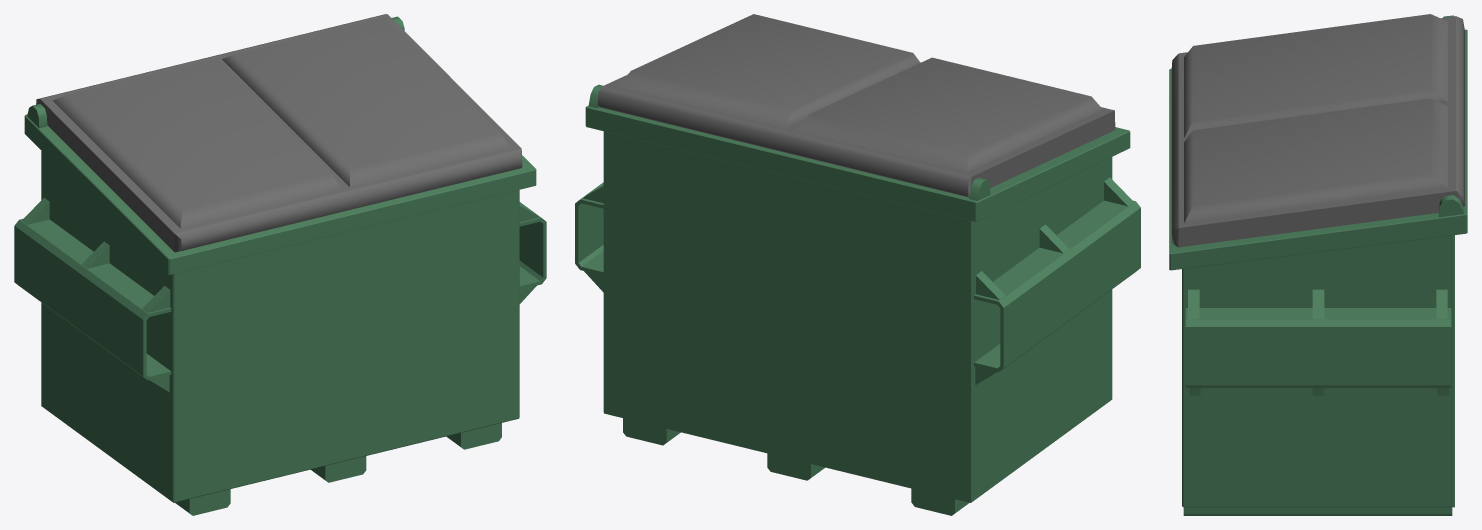
The model's file is Dumpster_Green_01.fbx.
3 renders of one model, left to right at view 1: azimuth 30°, elevation 25°; view 2: azimuth 150°, elevation 25°; view 3: azimuth 270°, elevation 25°, orthographic. The views are drawn at different scales.
Visible parts, largest first — view 1: pasted__DumpsterBody; view 2: pasted__DumpsterBody; view 3: pasted__DumpsterBody.
Boxes of the visible parts, x1,y1,x2,y2 form: pasted__DumpsterBody: (14, 14, 546, 515); pasted__DumpsterBody: (575, 14, 1140, 515); pasted__DumpsterBody: (1169, 14, 1467, 515).
Bounding box in the file's own units: 277 × 220 × 172.
